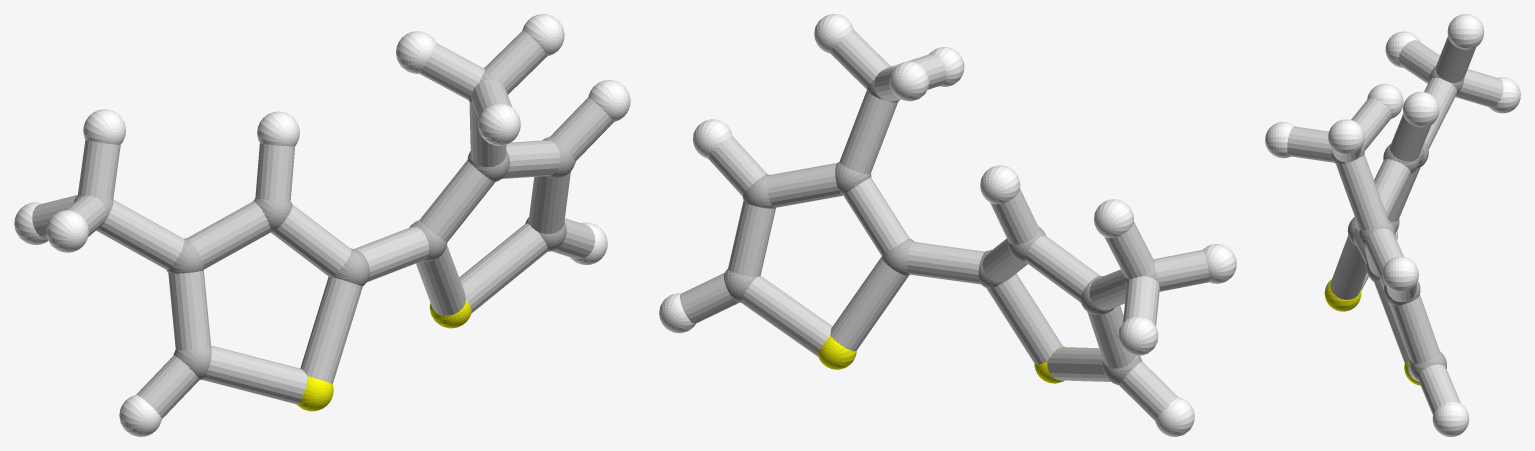
Rendered from Methylthiophene_Phi_25_Theta_220_Methylthiophene.glb.
The picture shows the model from 3 angles, left to right: view 1: azimuth 30°, elevation 25°; view 2: azimuth 150°, elevation 25°; view 3: azimuth 270°, elevation 25°; orthographic projection. The views are drawn at different scales.
Visible parts, largest first — view 1: grp7965, grp3621, grp1, grp7241; view 2: grp7965, grp3621, grp1, grp7241; view 3: grp7965, grp3621, grp1, grp7241.
Part boxes in pixels (x1,y1,x2,y2): grp7965: [32, 31, 613, 418]; grp3621: [14, 14, 630, 436]; grp1: [74, 70, 575, 380]; grp7241: [296, 300, 471, 411]; grp7965: [679, 30, 1209, 420]; grp3621: [659, 14, 1236, 436]; grp1: [724, 66, 1157, 384]; grp7241: [818, 336, 1064, 383]; grp7965: [1287, 36, 1503, 414]; grp3621: [1265, 14, 1520, 436]; grp1: [1331, 66, 1464, 380]; grp7241: [1324, 279, 1420, 385].
Size of the model in its own units: 9.42 by 5.24 by 4.19.
